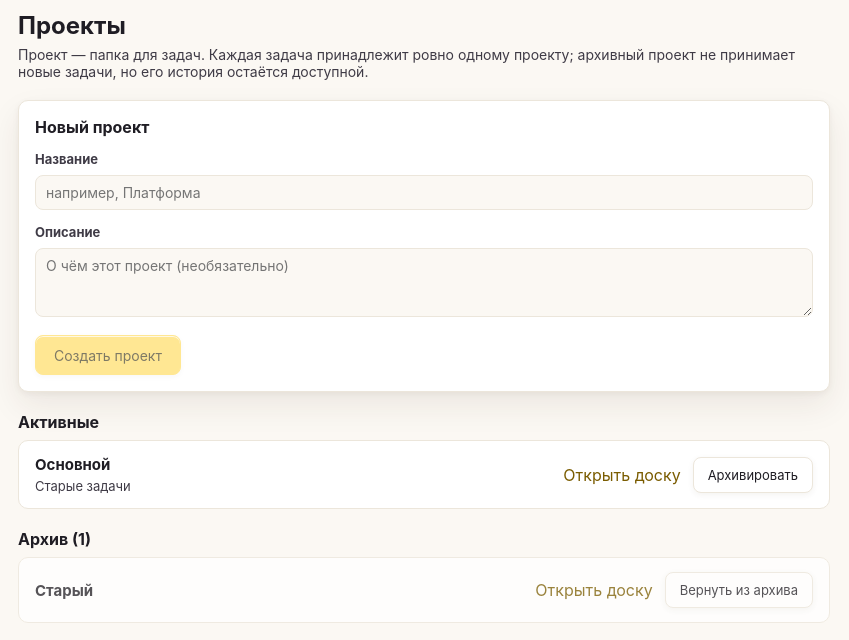
it: Projects page › создаёт проект и перечитывает список
Expected: the heading "Основной" is shown, x1=35 y1=455 x2=110 y2=474
Type "  Платформа " into the field labelled "Название". click: (424, 192)
box: x1=35 y1=175 x2=813 y2=210
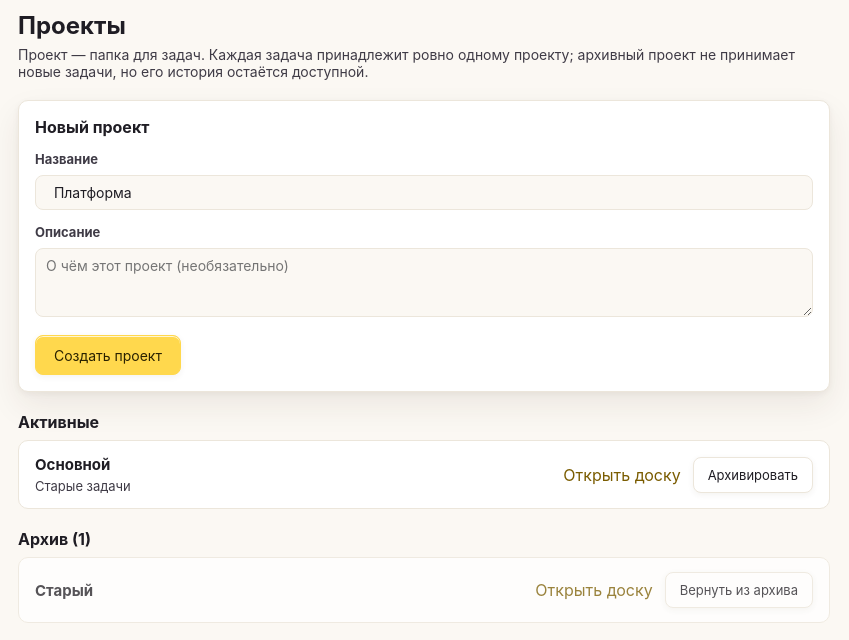
Type "О платформе" into the text box labelled "Описание". click: (424, 282)
box: x1=35 y1=248 x2=813 y2=317
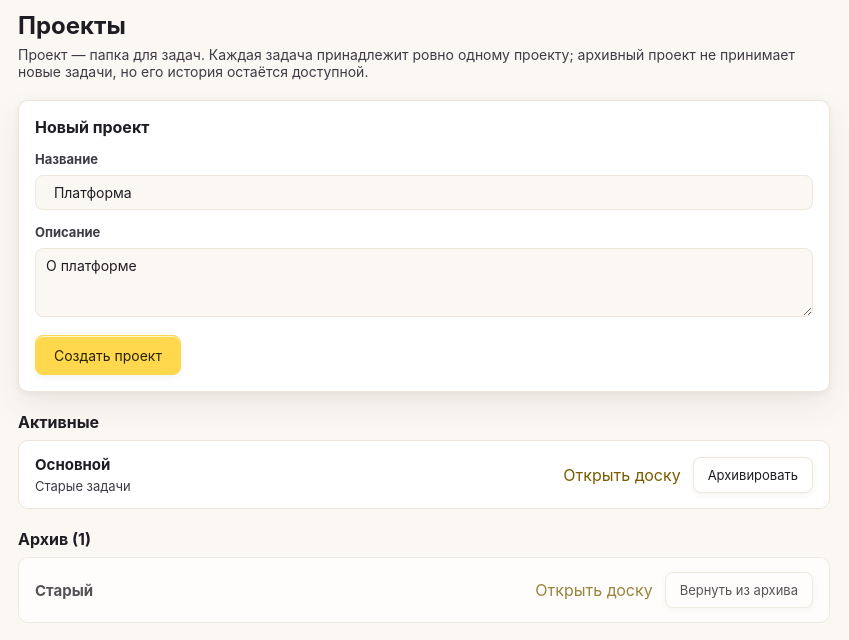
Click the button "Создать проект". click: (108, 355)
box: x1=35 y1=335 x2=181 y2=375
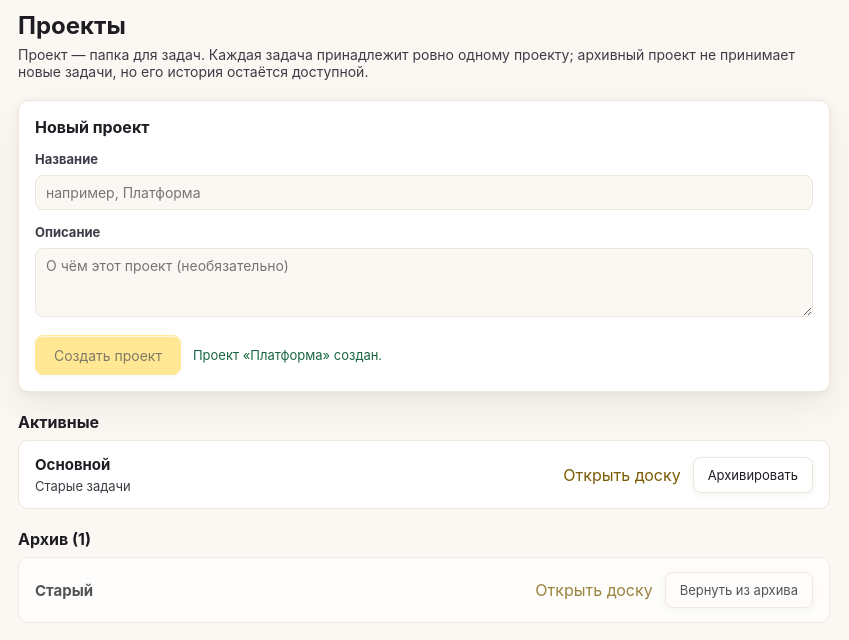
Now the text "Проект «Платформа» создан." is shown, box x1=193 y1=347 x2=382 y2=363
